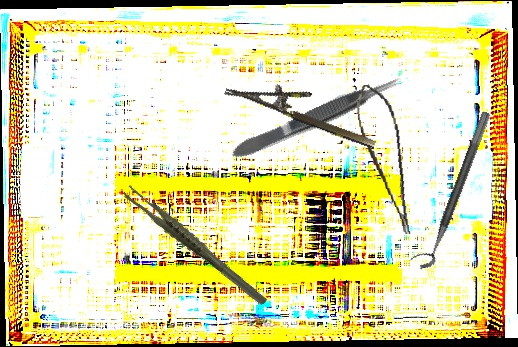Fixation Ring: (407, 105, 493, 274)
Micro Scissor: (351, 80, 416, 240)
Needle Holder: (224, 64, 384, 151)
Tissue Forceps: (120, 164, 269, 328), (227, 70, 407, 164)
